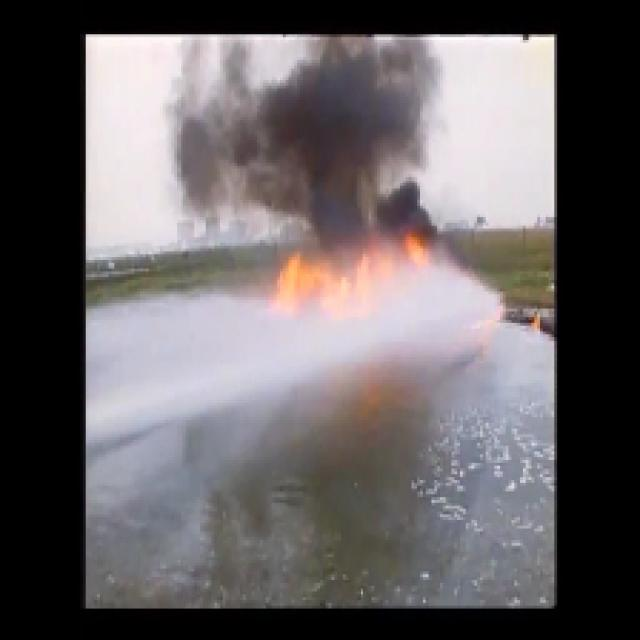smoke: (182, 76, 386, 202)
